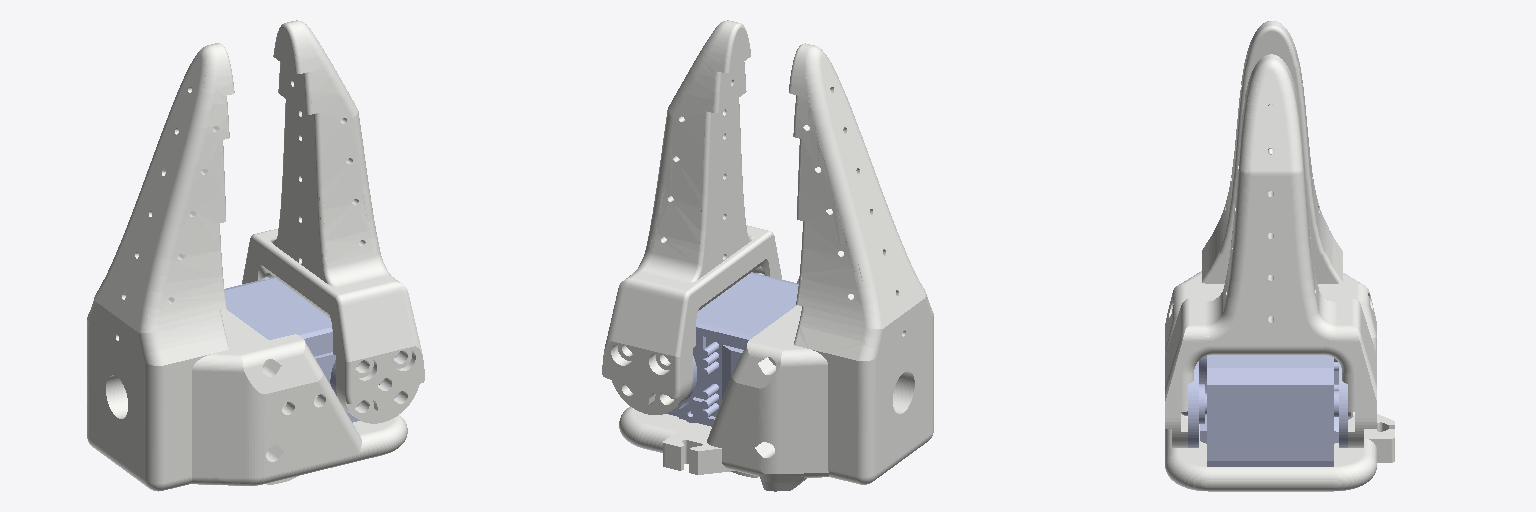
URDF robot description (gripper):
<?xml version="1.0" ?>
<!-- Generated using onshape-to-robot -->
<!-- Onshape https://cad.onshape.com/documents/df54c2d0d5118dfe6b247a42/w/10fff0edb753715a22c52ae0/e/a17877ec29f216194ee09aa0 -->
<robot name="gripper">
  <!-- Link wrist_roll_follower_so101 -->
  <link name="wrist_roll_follower_so101">
    <inertial>
      <origin xyz="-0.00521994 -0.000300304 0.0265383" rpy="0 0 0"/>
      <mass value="0.120908"/>
      <inertia ixx="5.38611e-05" ixy="7.2316e-07" ixz="1.19349e-05" iyy="7.72544e-05" iyz="-1.47324e-07" izz="5.22936e-05"/>
    </inertial>
    <!-- Part wrist_roll_follower_so101 -->
    <visual>
      <origin xyz="0 0.000218214 -0.000949706" rpy="-0 0 -0"/>
      <geometry>
        <mesh filename="package://assets/wrist_roll_follower_so101.stl"/>
      </geometry>
      <material name="wrist_roll_follower_so101_material">
        <color rgba="0.964706 0.964706 0.952941 1"/>
      </material>
    </visual>
    <collision>
      <origin xyz="0 0.000218214 -0.000949706" rpy="-0 0 -0"/>
      <geometry>
        <mesh filename="package://assets/wrist_roll_follower_so101.stl"/>
      </geometry>
    </collision>
    <!-- Part sts3215_03a -->
    <visual>
      <origin xyz="0.0077 -0.0002 0.0234" rpy="1.5708 0 -0"/>
      <geometry>
        <mesh filename="package://assets/sts3215_03a.stl"/>
      </geometry>
      <material name="sts3215_03a_material">
        <color rgba="0.796078 0.823529 0.937255 1"/>
      </material>
    </visual>
    <collision>
      <origin xyz="0.0077 -0.0002 0.0234" rpy="1.5708 0 -0"/>
      <geometry>
        <mesh filename="package://assets/sts3215_03a.stl"/>
      </geometry>
    </collision>
  </link>
  <!-- Link moving_jaw_so101 -->
  <link name="moving_jaw_so101">
    <inertial>
      <origin xyz="-0.00157491 -0.0300246 0.0192757" rpy="0 0 0"/>
      <mass value="0.0258674"/>
      <inertia ixx="1.42581e-05" ixy="-6.89495e-07" ixz="-1.2741e-08" iyy="4.07485e-06" iyz="-2.36868e-07" izz="1.13978e-05"/>
    </inertial>
    <!-- Part moving_jaw_so101 -->
    <visual>
      <origin xyz="0 -0 0.0189" rpy="0 -0 0"/>
      <geometry>
        <mesh filename="package://assets/moving_jaw_so101.stl"/>
      </geometry>
      <material name="moving_jaw_so101_material">
        <color rgba="0.964706 0.964706 0.952941 1"/>
      </material>
    </visual>
    <collision>
      <origin xyz="0 -0 0.0189" rpy="0 -0 0"/>
      <geometry>
        <mesh filename="package://assets/moving_jaw_so101.stl"/>
      </geometry>
    </collision>
  </link>
  <!-- Joint from wrist_roll_follower_so101 to moving_jaw_so101 -->
  <joint name="Revolute 1" type="revolute">
    <origin xyz="0.0202 -0.0189 0.0234" rpy="-1.5708 0 -0"/>
    <parent link="wrist_roll_follower_so101"/>
    <child link="moving_jaw_so101"/>
    <axis xyz="0 0 1"/>
    <limit effort="10" velocity="10" lower="-0.174533" upper="1.74533"/>
  </joint>
</robot>

--- Facts derived from the render (not from the file) ---
Views: 3 orthographic renders of the robot side by side, from view 1: azimuth 30°, elevation 25°; view 2: azimuth 150°, elevation 25°; view 3: azimuth 270°, elevation 25°.
Model gripper with 2 links and 1 joints (1 revolute), rooted at wrist_roll_follower_so101, posed all joints at 0.
Visible links, largest first — view 1: wrist_roll_follower_so101, moving_jaw_so101; view 2: wrist_roll_follower_so101, moving_jaw_so101; view 3: wrist_roll_follower_so101, moving_jaw_so101.
Boxes of the visible links, x1=… form: wrist_roll_follower_so101: x1=87, y1=43, x2=407, y2=491; moving_jaw_so101: x1=242, y1=20, x2=424, y2=423; wrist_roll_follower_so101: x1=619, y1=43, x2=933, y2=491; moving_jaw_so101: x1=602, y1=20, x2=781, y2=414; wrist_roll_follower_so101: x1=1165, y1=21, x2=1394, y2=491; moving_jaw_so101: x1=1165, y1=54, x2=1376, y2=447.
Size in the robot's own frame: 0.0656 by 0.052 by 0.1064 metres.
3 mesh visuals loaded from 3 distinct referenced files (3 binary STL).
